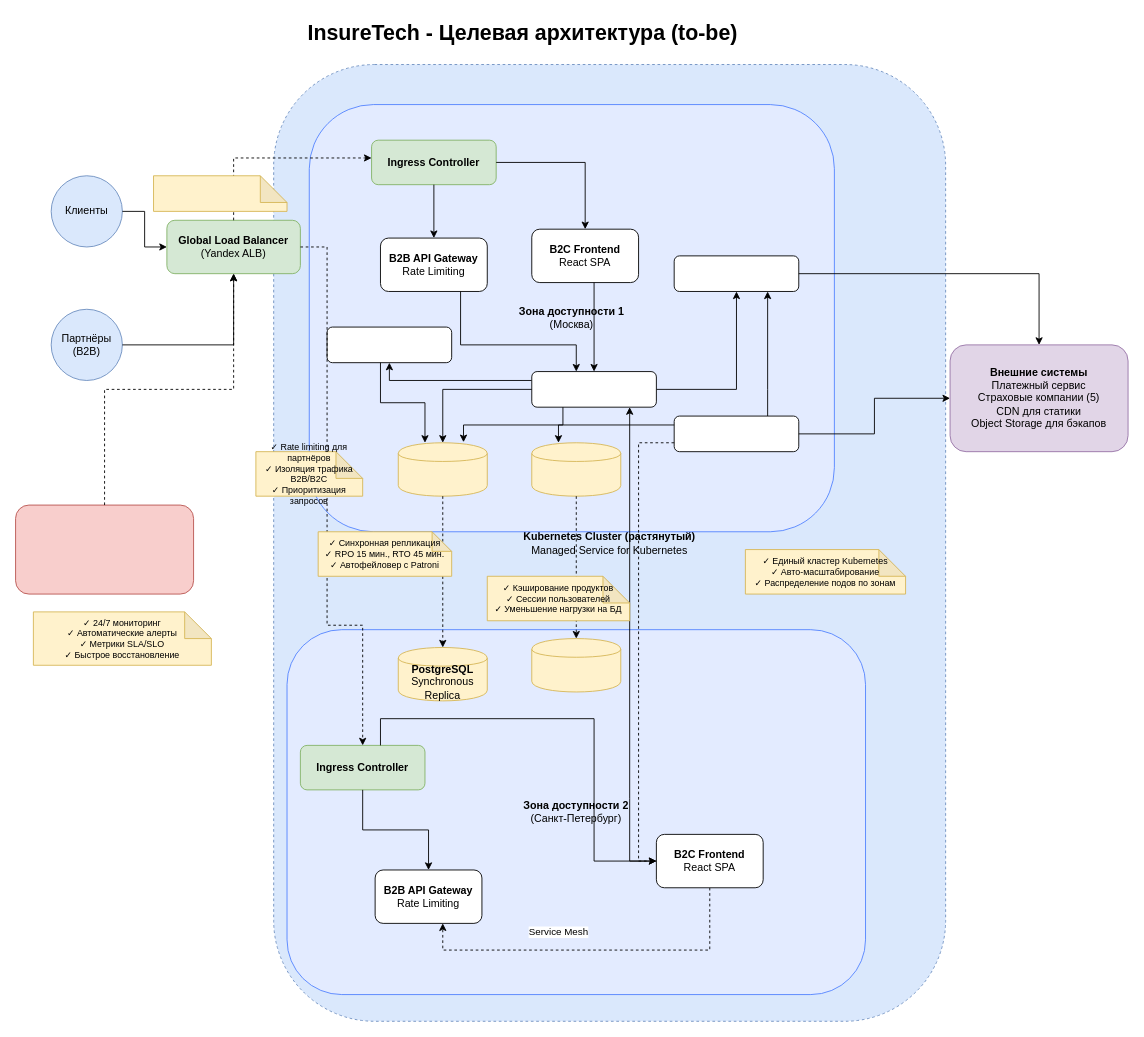
Some shapes in this 1144 by 1037 pixel diagram are drawn without their labels. The centre of each missing label's shape, as x and y in pixels:
client-info: (389,344)
core-app (рефакторинг): (593,389)
ins-comp-settlement: (736,433)
ins-product-aggregator: (736,273)
PostgreSQL Master: (442,469)
Redis Replica: (576,665)
Redis Кластер: (576,469)
Мониторинг и алертинг Prometheus + Grafana Yandex Monitoring Авто-восстановление: (104,549)
✓ Гео-балансировка ✓ Health checks ✓ Фейловер при проблемах: (220,193)
